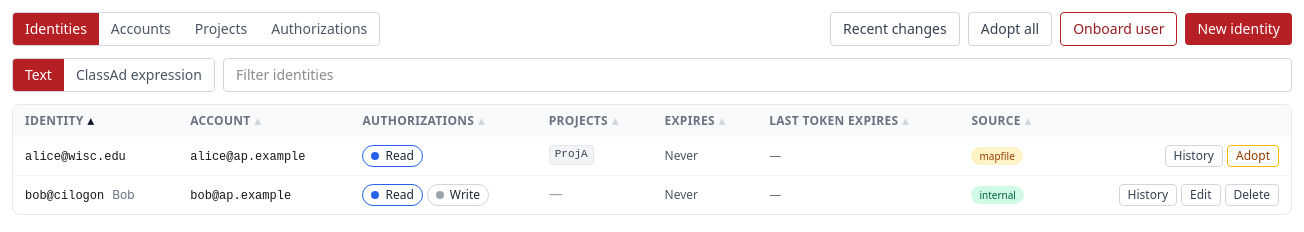
Directory › switches sub-views and filters by text
Click the tab "Accounts": {"x": 141, "y": 29} x1=99 y1=13 x2=183 y2=45
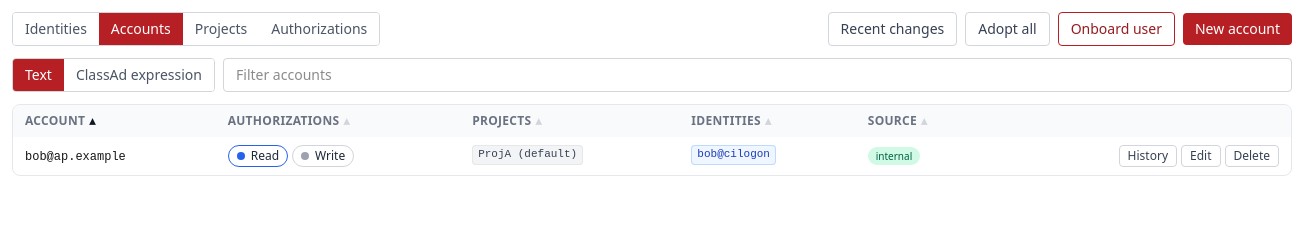
Click the tab "Identities": {"x": 56, "y": 29} x1=13 y1=13 x2=99 y2=45
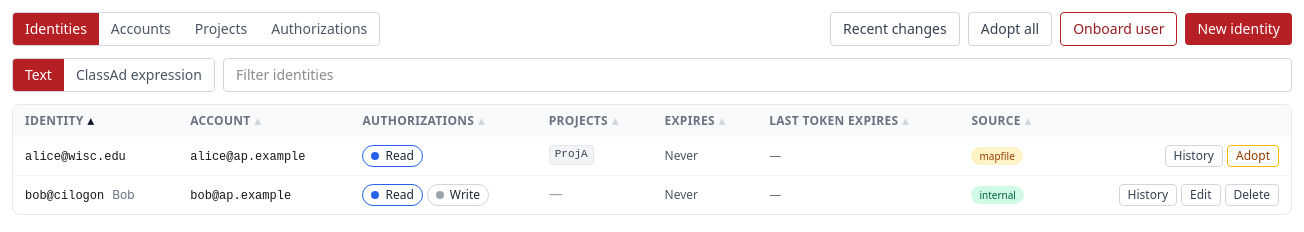
In the field with placeholder "Filter identities": {"x": 758, "y": 75} x1=223 y1=58 x2=1292 y2=92, type "cilogon"
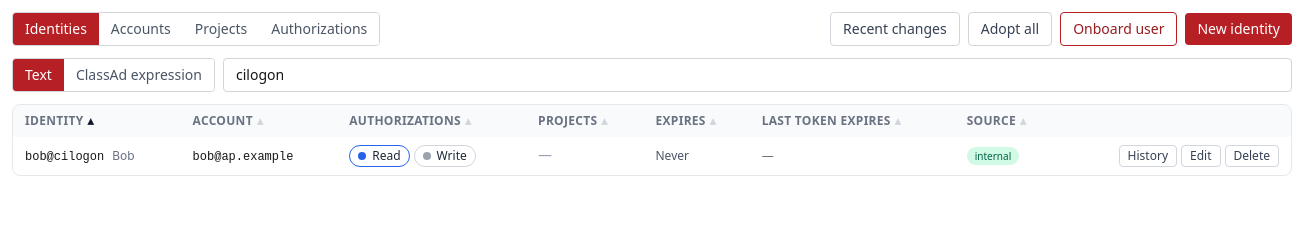
Now the row with test id "dir-row-i-int" is shown, box x1=13 y1=137 x2=1291 y2=175
Now the row with test id "dir-row-i-map" is gone
